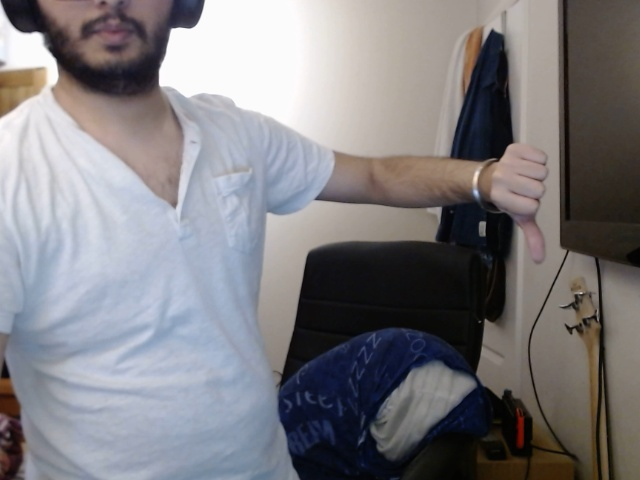Thumbs down: (484, 133, 564, 271)
